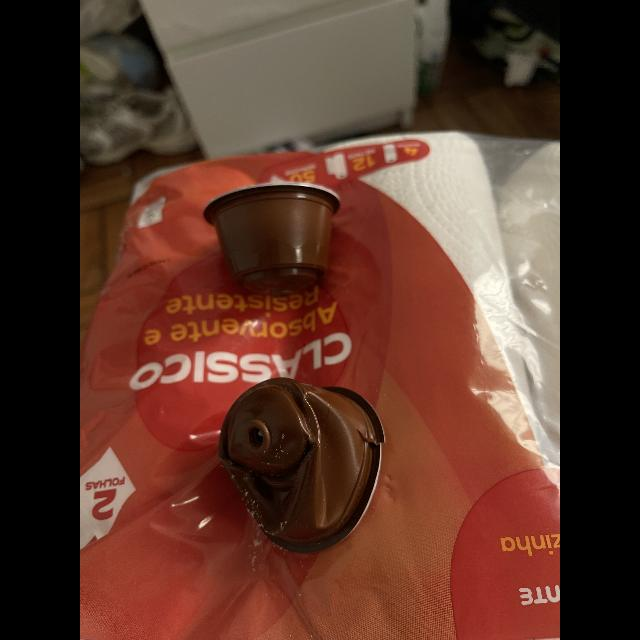damaged_capsule: (212, 374, 404, 562)
intact_capsule: (193, 172, 355, 308)
